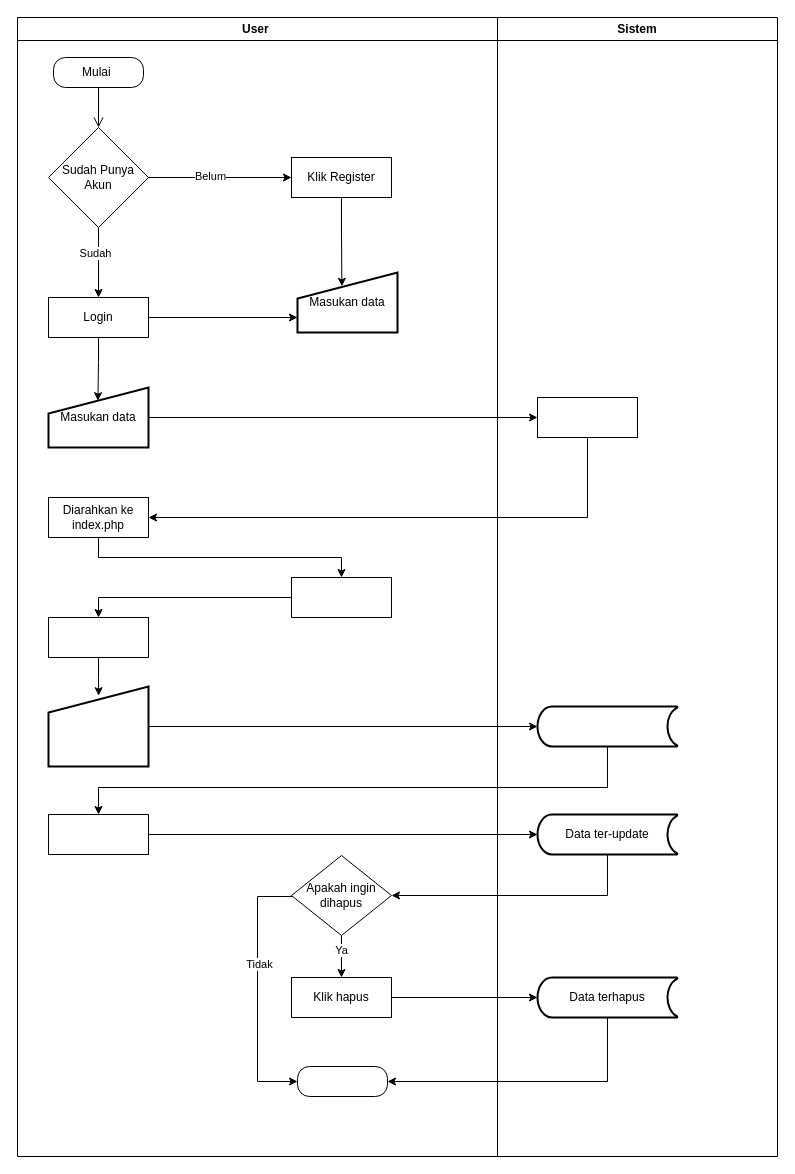
Image size: 795x1174. Some labels were removed from this diagram. The shapes that lost their labels are listed below. From the top down, each one's centre as x and y in pixels, then its label:
(x=587, y=417): Mengecek kecocokan
(x=341, y=597): Daftar buku
(x=98, y=637): Tambah data
(x=98, y=726): Masukan data baru
(x=607, y=726): Data ditambahkan
(x=98, y=834): Edit data
(x=342, y=1081): Selesai
